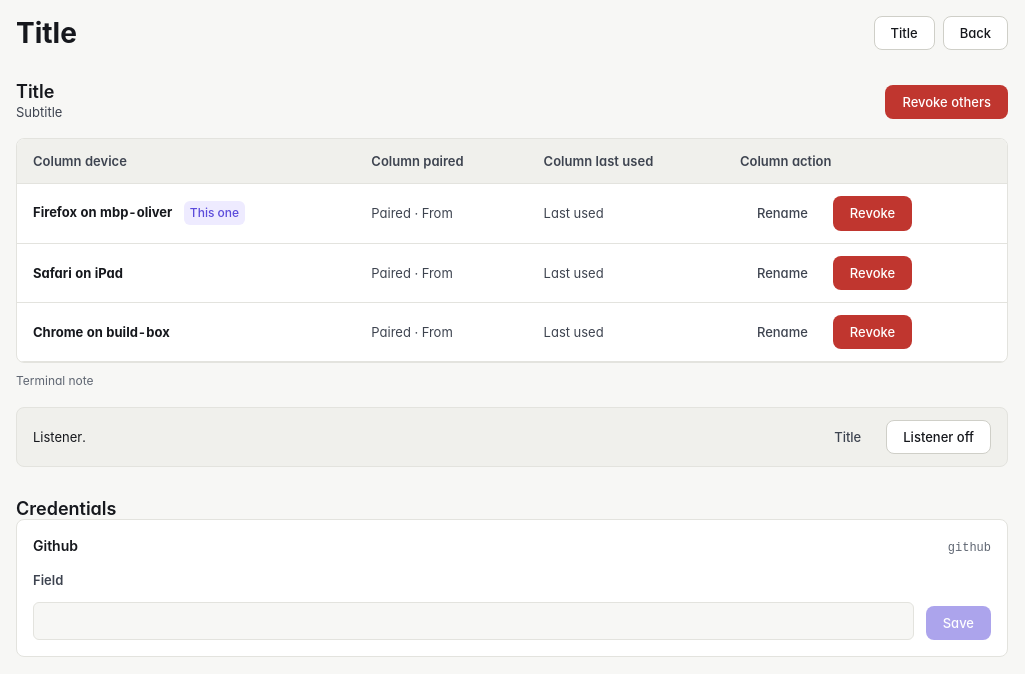
Test case: Paired devices against the mock runtime scenarios › renames a device inline
Click the button with test id "rename-btn-dev-2". click: (782, 273)
box: [740,256,825,290]
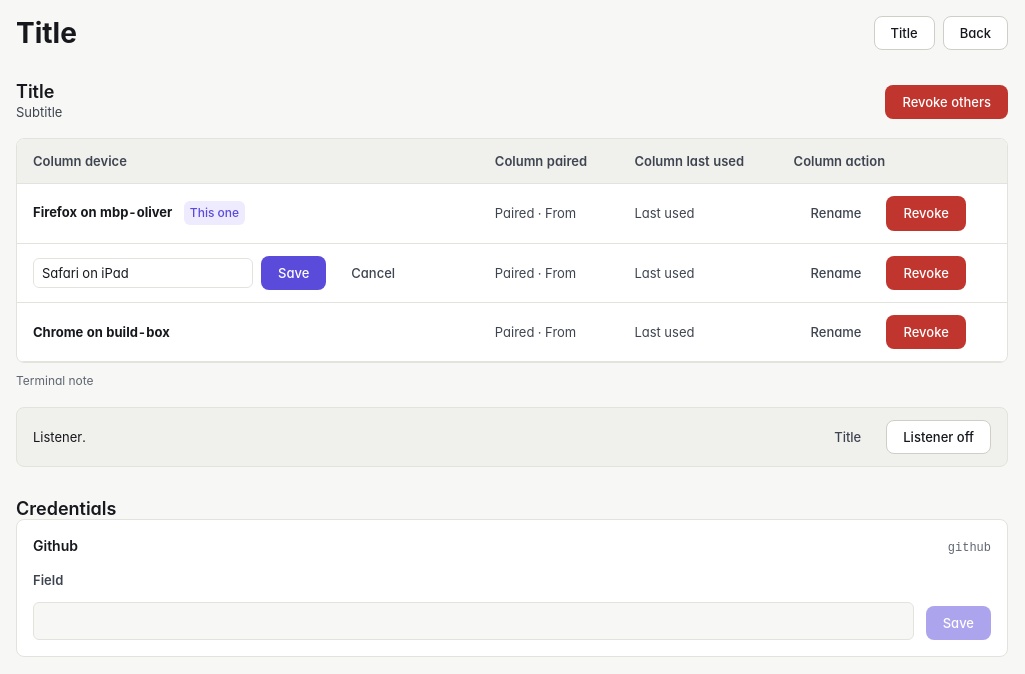
Replace the text in the field with test id "rename-input-dev-2" with "iPad Oliver". click: (143, 273)
box: [33,258,253,288]
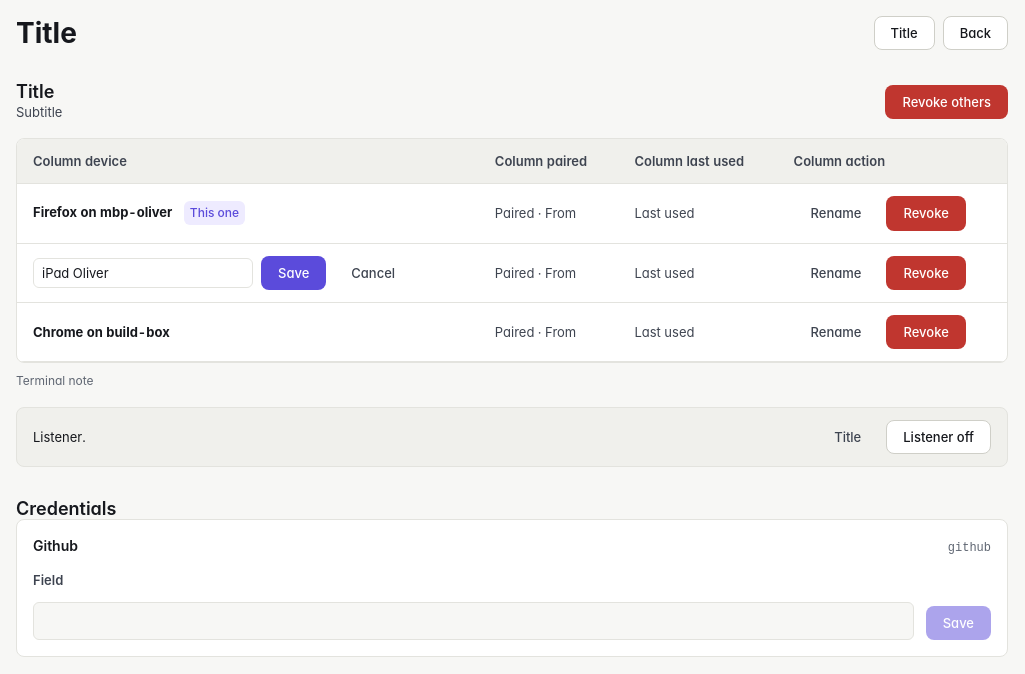
Click the button with test id "save-rename-dev-2". click: (294, 273)
box: [261,256,326,290]
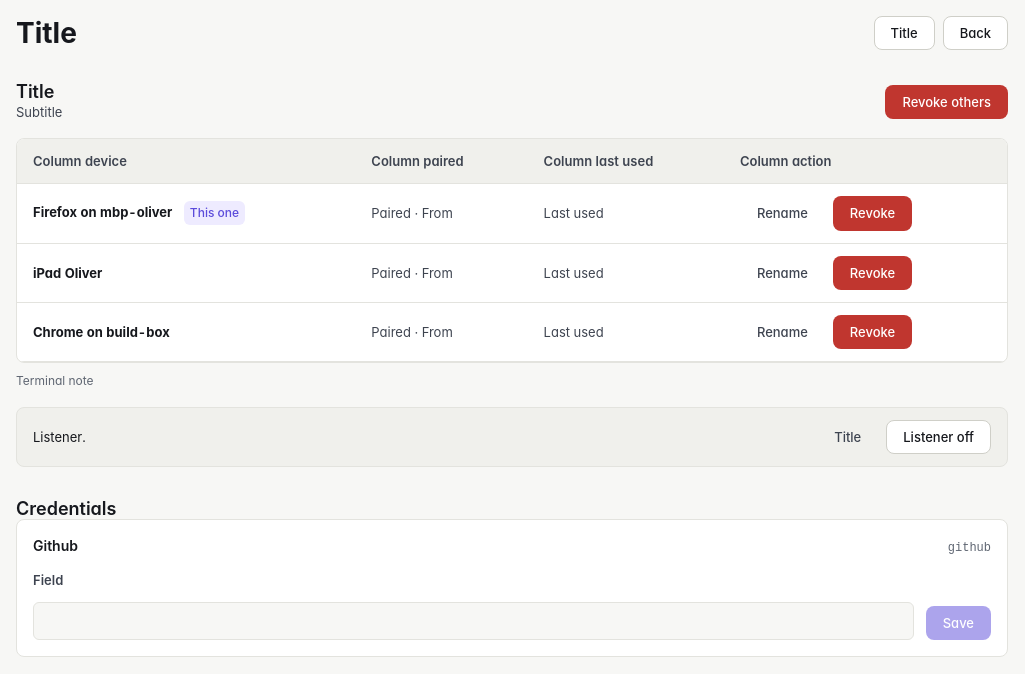
Now the text "iPad Oliver" is shown, box [33,265,102,281]
